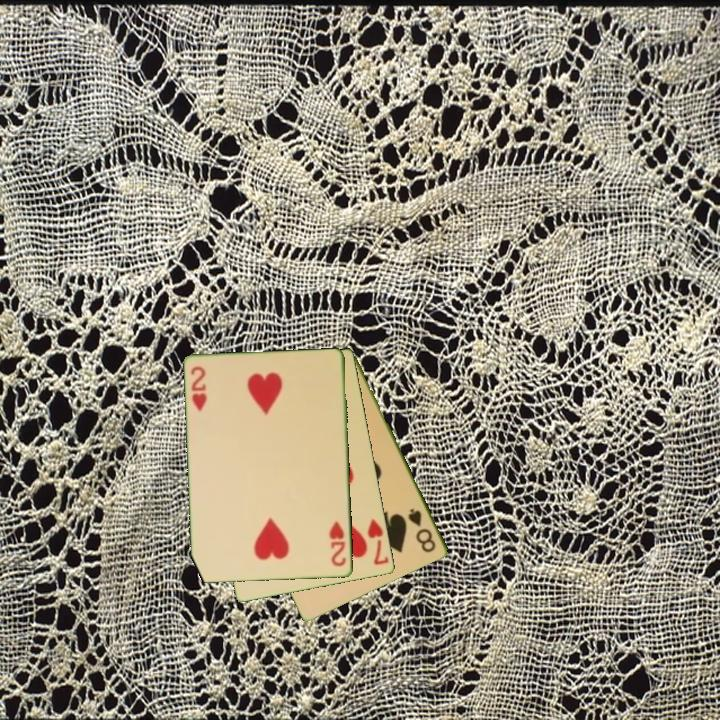2h: (326, 517, 349, 570), (188, 363, 210, 414)
7h: (364, 516, 392, 568)
8s: (405, 505, 439, 556)
